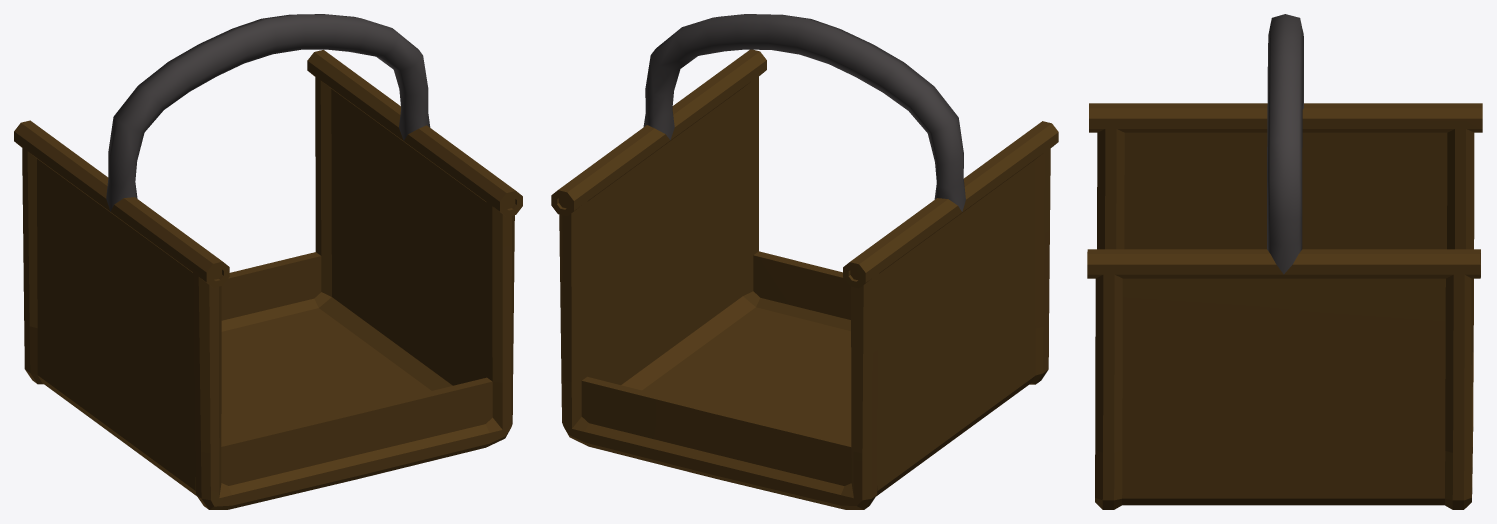
Rendered from SM_Basket.fbx.
3 renders of one model, left to right at view 1: azimuth 30°, elevation 25°; view 2: azimuth 150°, elevation 25°; view 3: azimuth 270°, elevation 25°, orthographic. The views are drawn at different scales.
Visible parts, largest first — view 1: SM_Basket, SM_BasketHandle; view 2: SM_Basket, SM_BasketHandle; view 3: SM_Basket, SM_BasketHandle.
Boxes of the visible parts, x1,y1,x2,y2 form: SM_Basket: [14, 50, 522, 509]; SM_BasketHandle: [106, 14, 430, 211]; SM_Basket: [551, 49, 1058, 509]; SM_BasketHandle: [643, 14, 965, 211]; SM_Basket: [1087, 103, 1482, 509]; SM_BasketHandle: [1267, 14, 1303, 274].
Size of the model in its own units: 64.19 by 76.46 by 67.88.
